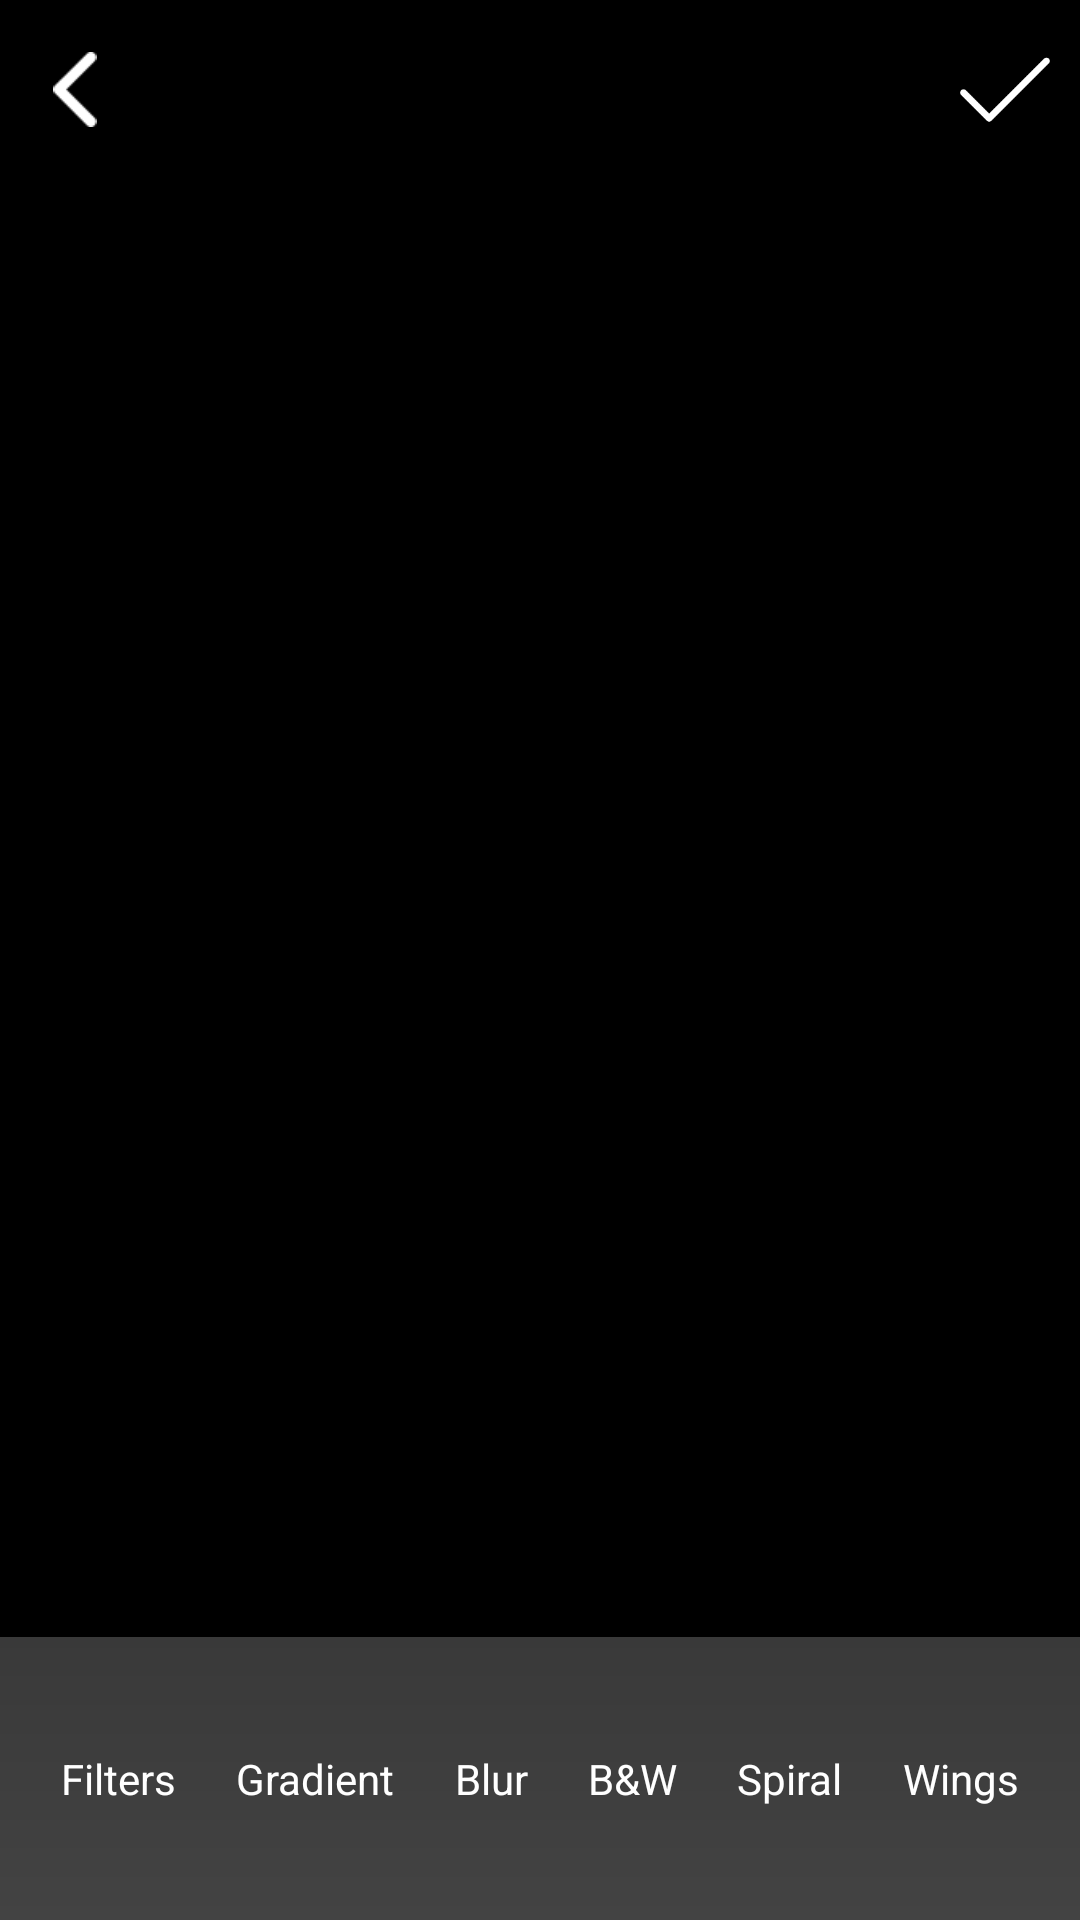

Icons on this 1080w x 1920h Android screen, each with the point to tap as (x,y):
Apply: (1005,89)
Back: (75,89)
